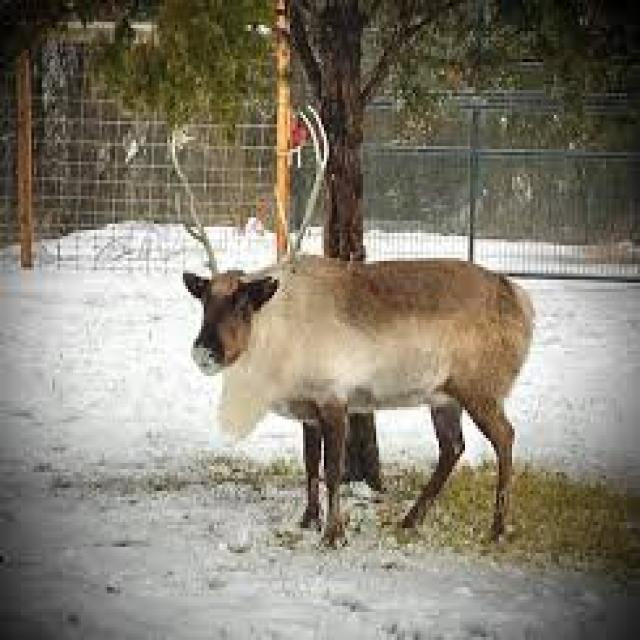Reindeer: (164, 95, 539, 552)
